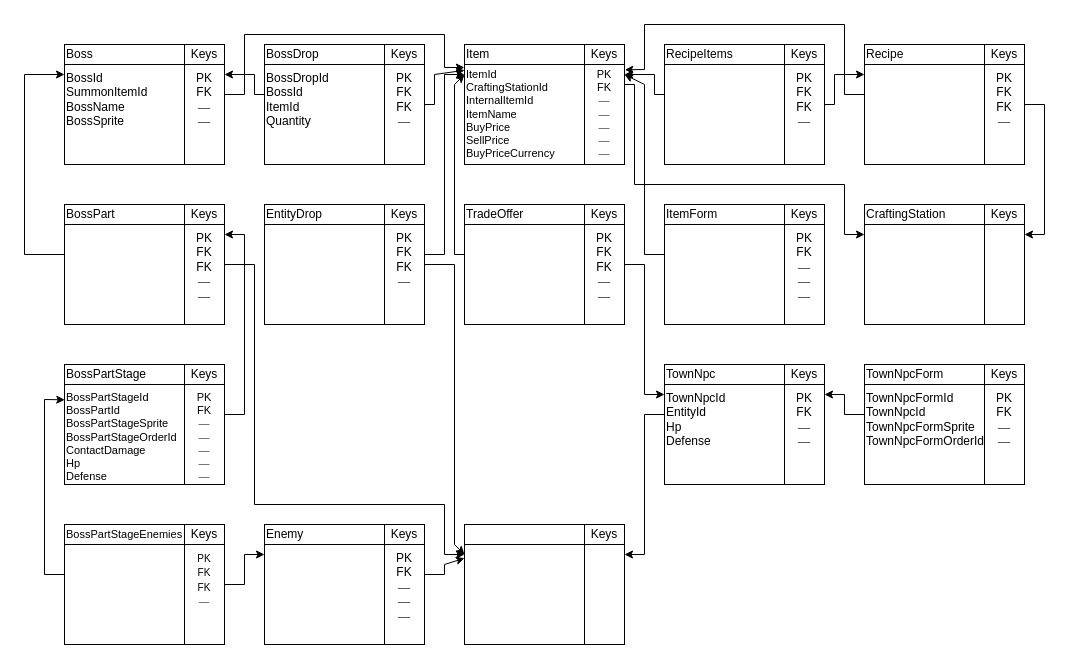
Some shapes in this 1070 by 662 pixel diagram are drawn without their labels. The centre of each missing label's shape, as x and y in pixels:
"BossPartId BossId EntityId BossPartOrderId Quantity" belongs at point (124, 274).
"BossPartStageEnemiesId BossPartStageId EnemyId Quantity" belongs at point (124, 594).
"CraftingStationId CraftingStationName CraftingStationSprite" belongs at point (924, 274).
"EnemyId EntityId ContactDamage Hp Defense" belongs at point (324, 594).
"Entity" belongs at point (524, 534).
"EntityDropId ItemId EntityId Quantity" belongs at point (324, 274).
"EntityId InternalNpcId EntityName Description" belongs at point (524, 594).
"ItemFormId ItemId ItemSprite ItemFormOrderId Tooltip" belongs at point (724, 274).
"PK — —" belongs at point (1004, 274).
"PK — — —" belongs at point (604, 594).
"RecipeId ResultItemId CraftingStationId ResultItemQuantity" belongs at point (924, 114).
"RecipeItemsId ItemId RecipeId Quantity" belongs at point (724, 114).
"TradeOfferId ItemId TownNpcId TradeType Quantity" belongs at point (524, 274).
